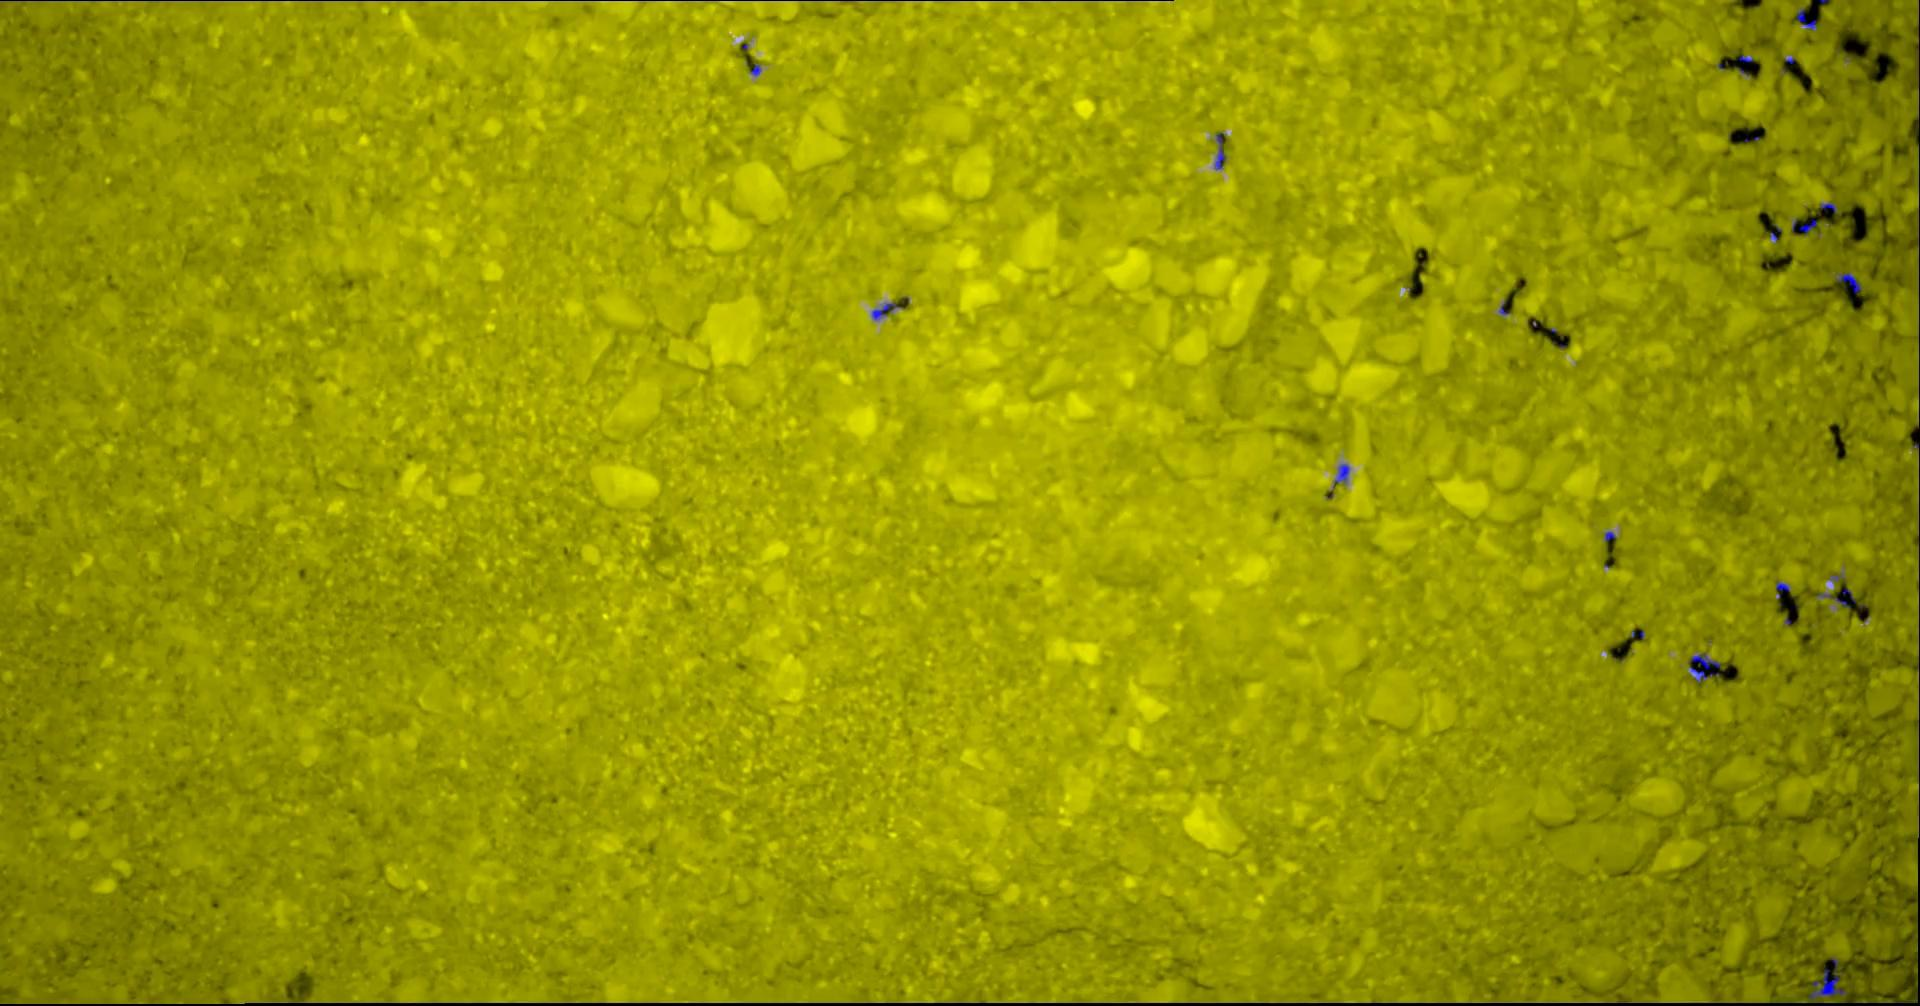ant: (1807, 956, 1848, 1002), (1689, 653, 1721, 682), (1837, 272, 1863, 293), (872, 302, 903, 319), (1818, 593, 1851, 607), (1798, 8, 1818, 29), (1217, 132, 1227, 169), (1335, 464, 1351, 485), (1801, 218, 1818, 235), (1777, 580, 1790, 600), (1821, 201, 1839, 213)
